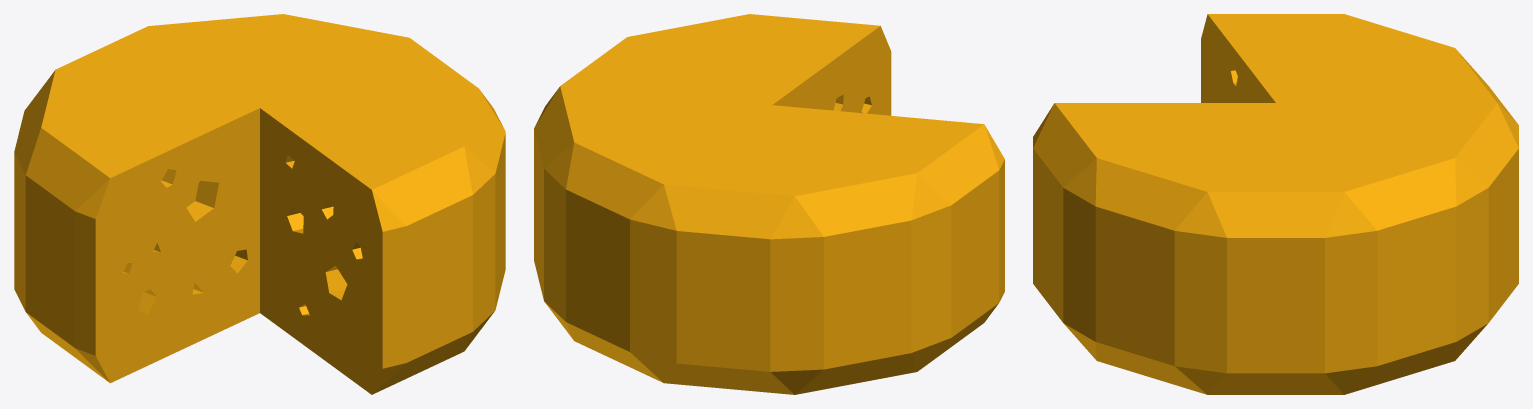
The model's file is cheese.obj.
3 views of the same model, side by side, from view 1: azimuth 30°, elevation 25°; view 2: azimuth 150°, elevation 25°; view 3: azimuth 270°, elevation 25° (orthographic). The views are drawn at different scales.
Parts seen in each view (by area): view 1: Cylinder_Mesh; view 2: Cylinder_Mesh; view 3: Cylinder_Mesh.
Boxes of the visible parts, x1,y1,x2,y2 form: Cylinder_Mesh: (14, 14, 505, 394); Cylinder_Mesh: (534, 14, 1004, 394); Cylinder_Mesh: (1033, 14, 1518, 394).
Bounding box in the file's own units: 0.2965 × 0.1386 × 0.3007.
